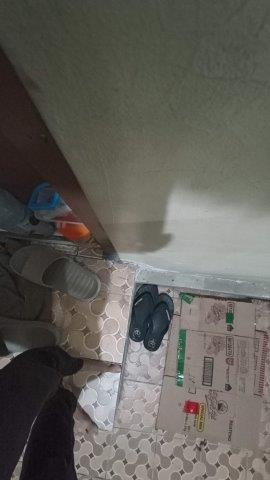kardus: (158, 296, 267, 448)
